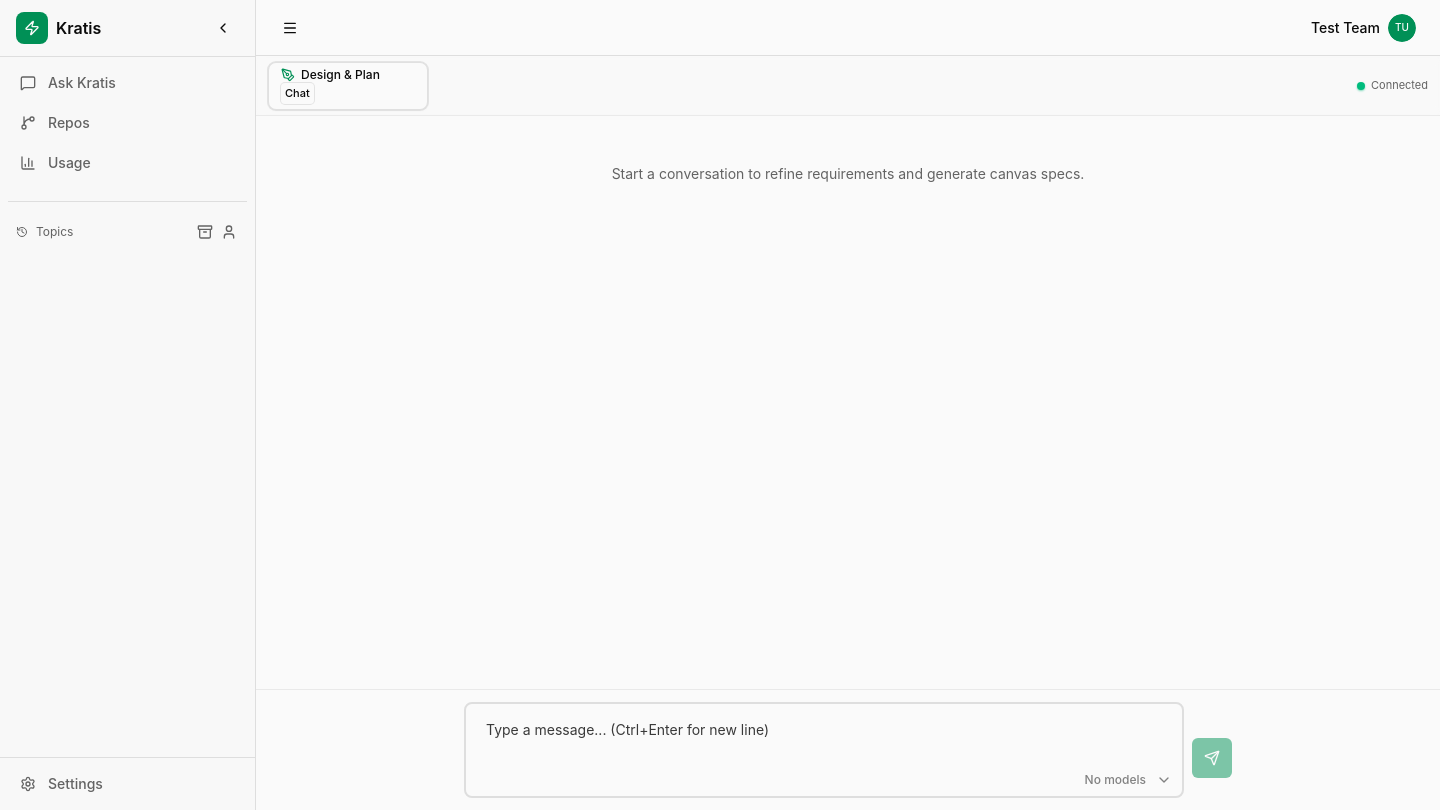
Chat View Flow Integration › displays user message and assistant streaming response from WebSocket
expect the text "Chat" is shown: met, box [281,83,314,104]
// Type and send message
Step 1. Type "Hello" into the text box with placeholder "Type a message... (Ctrl+Enter for new line)" → (824, 750), box [474,712,1174,788]
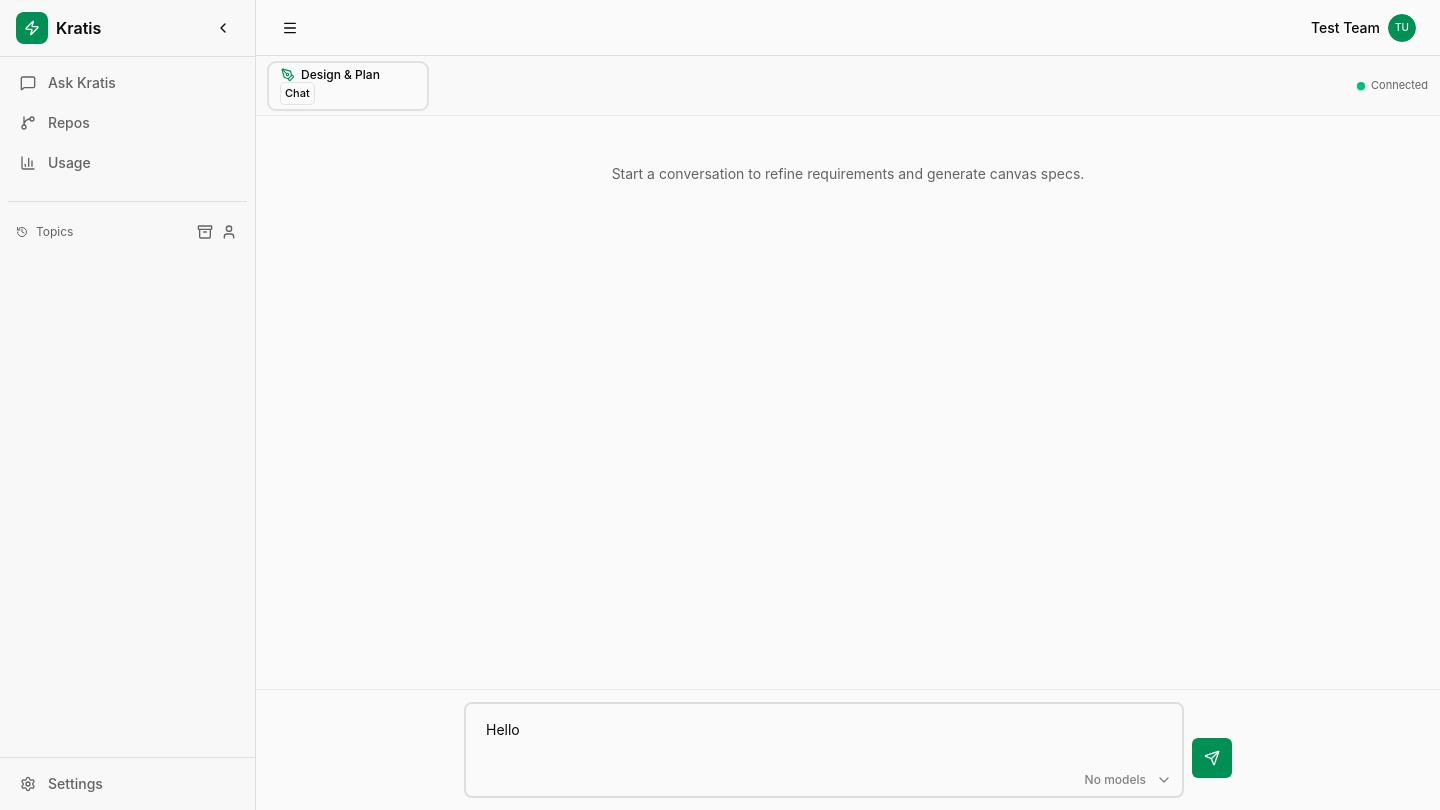
Step 2. Press Enter
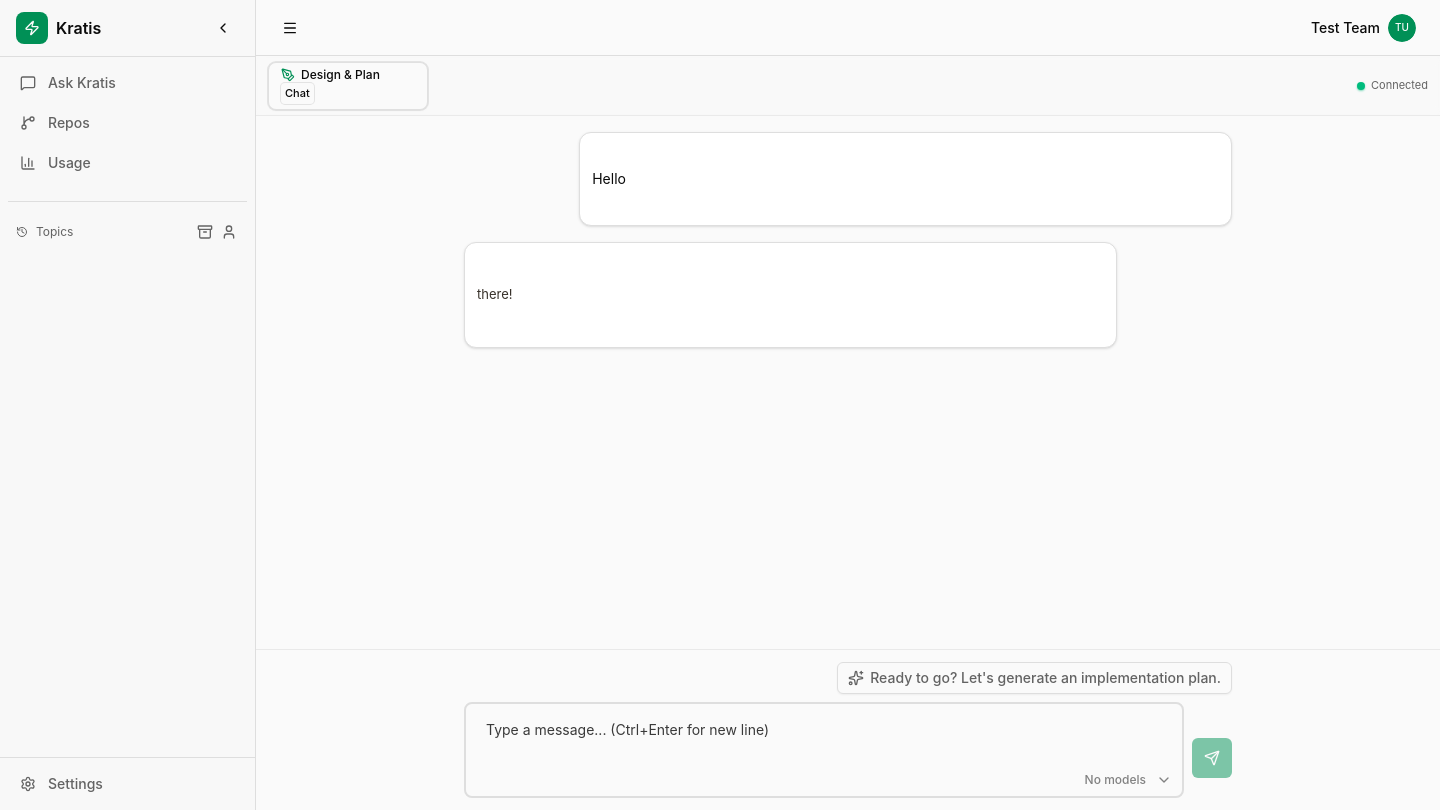
expect the text "Hello" is shown: met, box [592,170,626,187]
